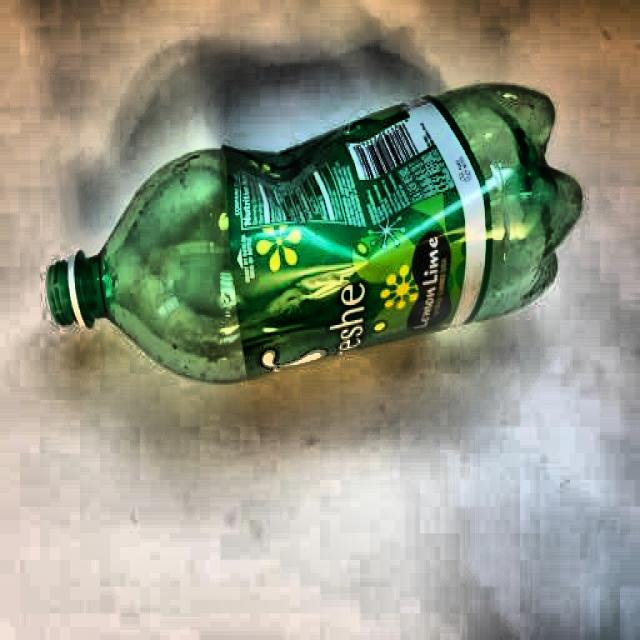plastic: (46, 88, 577, 388)
